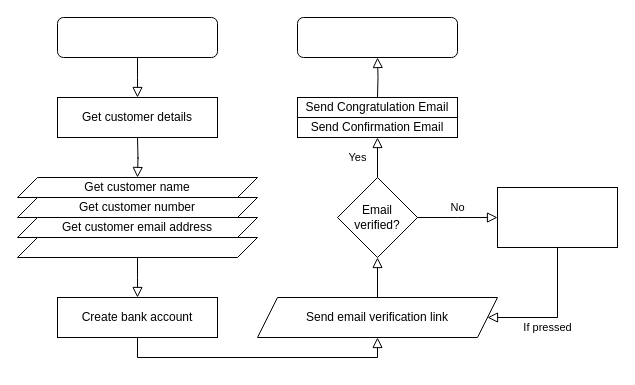
This 635x385 diagram has some shape labels left out. The centre of each missing label's shape, as x and y in pixels:
End: (377,37)
Get customer password: (137,247)
Provide option to generate email verification link: (557,217)
Start: (137,37)
